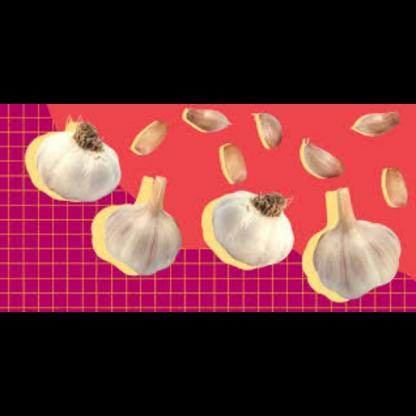garlic: (299, 187, 403, 306), (88, 168, 186, 284), (21, 118, 121, 205), (203, 183, 299, 271), (292, 138, 350, 184), (349, 106, 406, 140), (215, 138, 252, 188), (127, 115, 170, 158), (378, 157, 410, 214), (248, 108, 286, 153), (179, 104, 233, 135)
